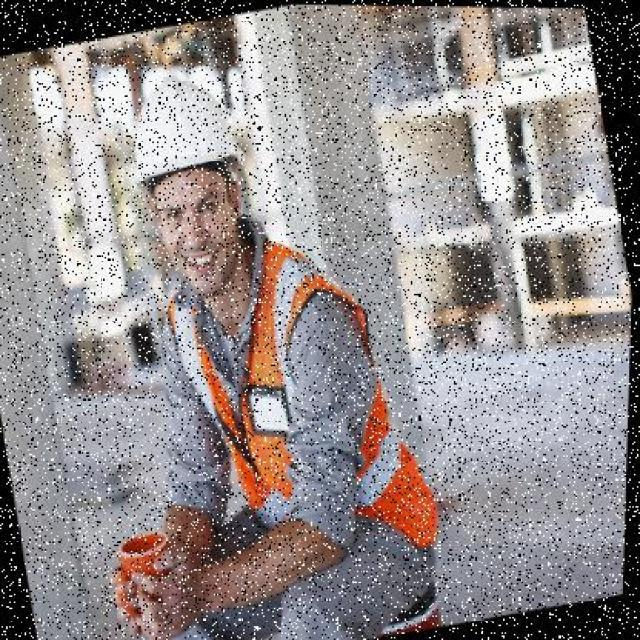helmet: (108, 59, 260, 204)
